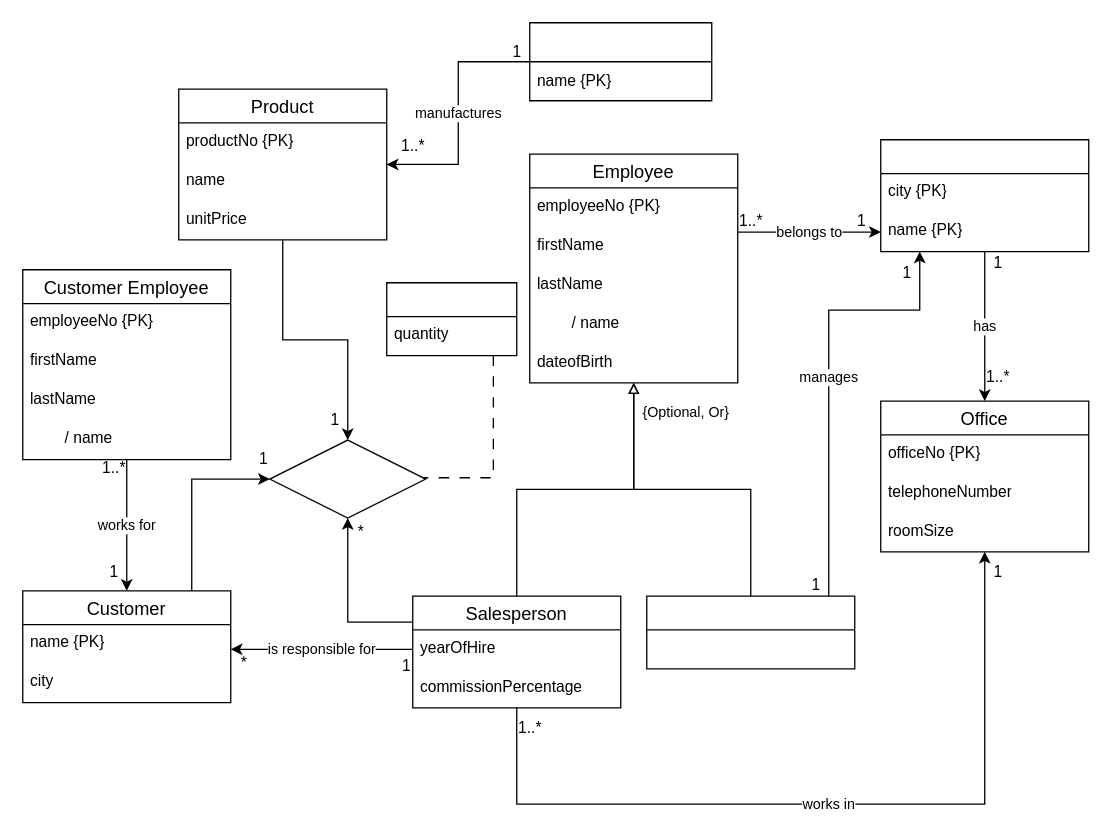
The diagram is 1112 pixels wide and 837 high, and some of its shapes have lost their labels. The shapes that lost their labels are listed below. From the top down, each one's box as (x1, y1, x2, y2) in pixels, then its label:
(528, 21, 712, 101): Manufacturer
(879, 138, 1089, 252): Branch
(268, 439, 426, 518): Sells
(645, 595, 855, 669): Branch Manager
